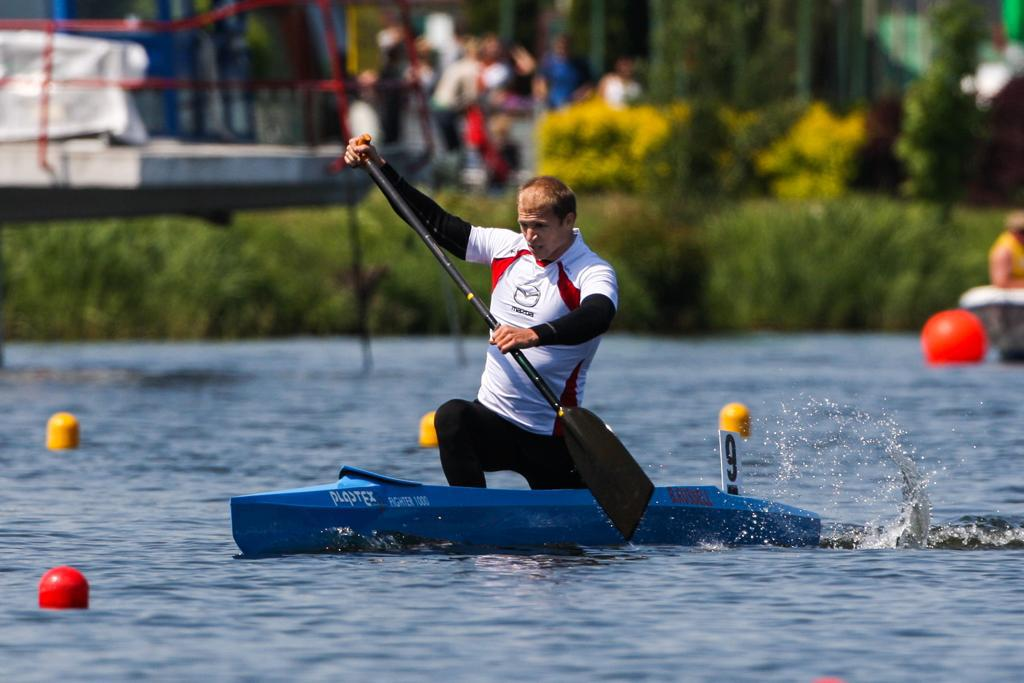face: (518, 206, 563, 261)
